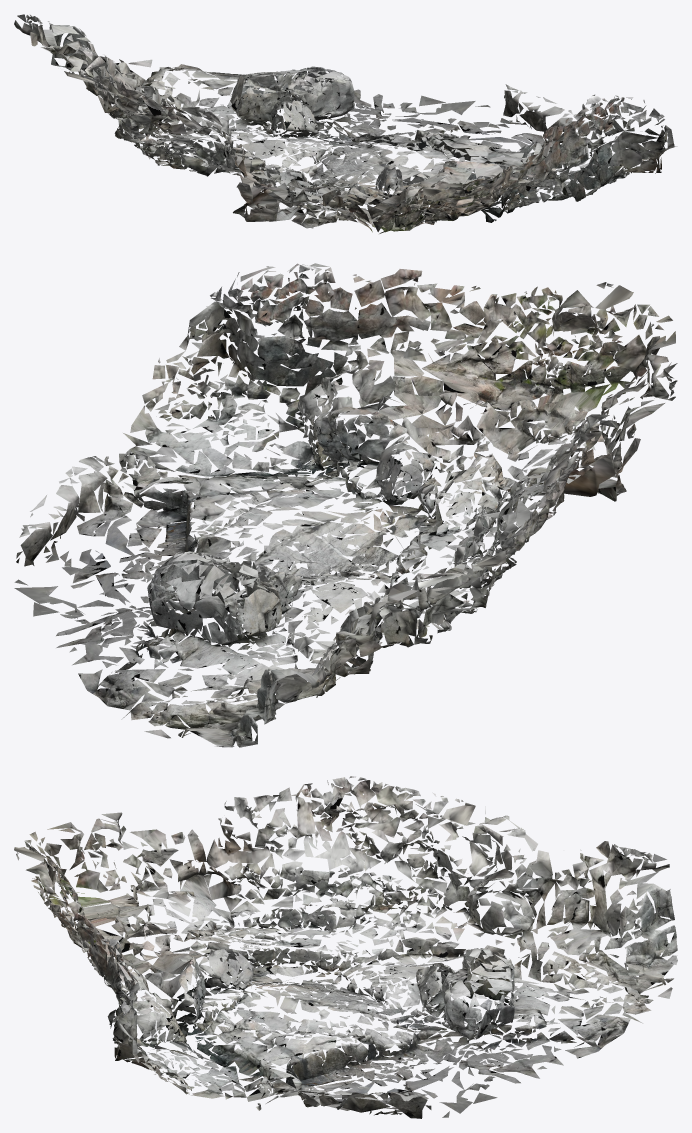
Rendered from rocks_davia.glb.
The picture shows the model from 3 angles, top to bottom: view 1: azimuth 30°, elevation 25°; view 2: azimuth 150°, elevation 25°; view 3: azimuth 270°, elevation 25°; orthographic projection. The views are drawn at different scales.
Parts seen in each view (by area): view 1: Object_13, Object_19, Object_2, Object_14, Object_9, Object_8, Object_5, Object_6, Object_16, Object_20, Object_17, Object_12 (+7 smaller); view 2: Object_2, Object_6, Object_8, Object_15, Object_13, Object_9, Object_10, Object_17, Object_12, Object_5, Object_19, Object_14 (+7 smaller); view 3: Object_13, Object_12, Object_9, Object_6, Object_20, Object_17, Object_10, Object_19, Object_15, Object_8, Object_16, Object_14 (+7 smaller).
Boxes of the visible parts, x1,y1,x2,y2 form: Object_13: (53, 41, 648, 228); Object_19: (30, 24, 674, 213); Object_2: (22, 23, 653, 227); Object_14: (160, 66, 656, 225); Object_9: (49, 24, 597, 223); Object_8: (81, 54, 664, 215); Object_5: (83, 61, 664, 220); Object_6: (145, 67, 535, 230); Object_16: (51, 26, 665, 218); Object_20: (17, 14, 668, 228); Object_17: (41, 43, 646, 232); Object_12: (73, 53, 649, 232); Object_2: (29, 276, 649, 711); Object_6: (100, 378, 587, 727); Object_8: (101, 307, 671, 735); Object_15: (50, 286, 647, 703); Object_13: (14, 286, 621, 699); Object_9: (56, 318, 652, 724); Object_10: (71, 292, 630, 747); Object_17: (30, 264, 677, 719); Object_12: (19, 278, 652, 738); Object_5: (16, 263, 674, 710); Object_19: (56, 266, 675, 703); Object_14: (60, 304, 630, 708); Object_13: (39, 803, 607, 1118); Object_12: (50, 785, 672, 1107); Object_9: (36, 812, 674, 1110); Object_6: (78, 893, 653, 1089); Object_20: (24, 776, 673, 1117); Object_17: (25, 803, 643, 1106); Object_10: (66, 783, 677, 1098); Object_19: (43, 782, 629, 1110); Object_15: (31, 825, 642, 1112); Object_8: (59, 816, 663, 1093); Object_16: (14, 780, 677, 1109); Object_14: (33, 831, 632, 1099).
Bounding box in the file's own units: 32.33 × 10.81 × 43.03.
6 materials, 6 textured.
